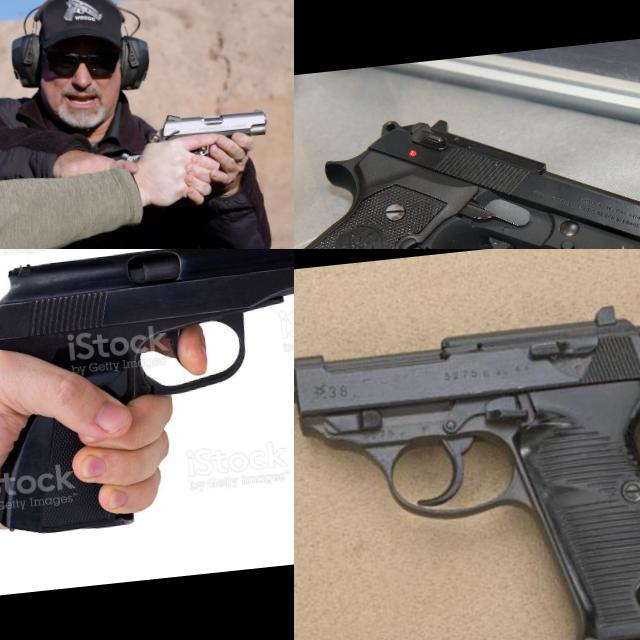handgun: (294, 291, 640, 640), (0, 249, 294, 537), (294, 69, 640, 249), (142, 100, 274, 160)
